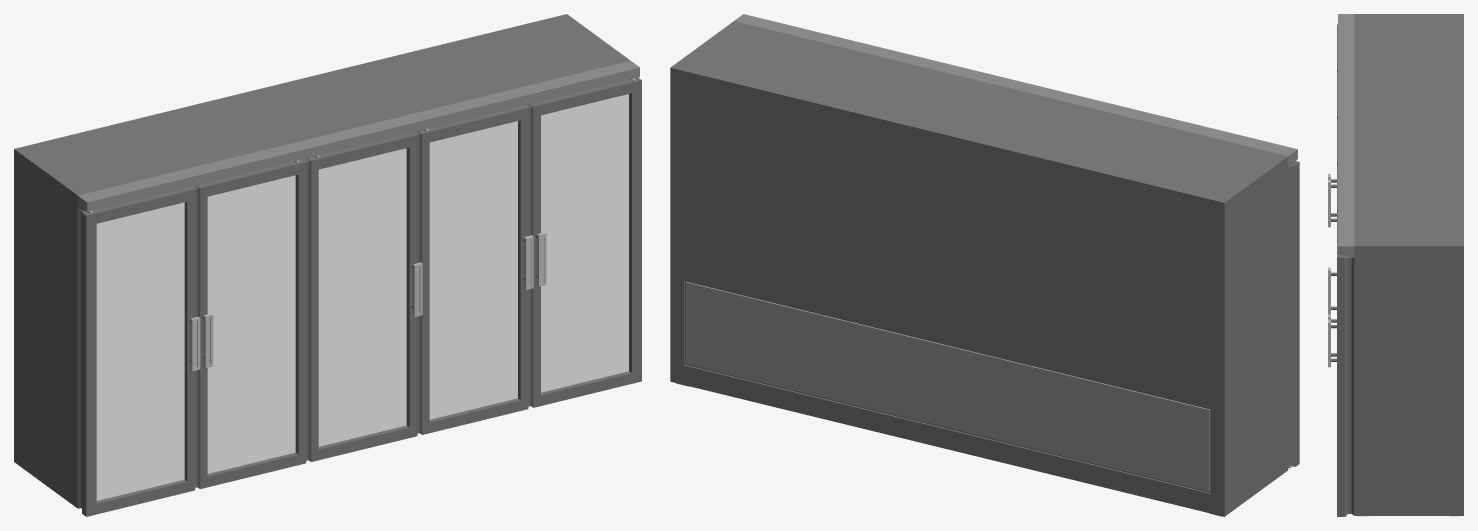
File: Large Multi Freezer Light.fbx
3 renders of one model, left to right at view 1: azimuth 30°, elevation 25°; view 2: azimuth 150°, elevation 25°; view 3: azimuth 270°, elevation 25°, orthographic. The views are drawn at different scales.
Parts seen in each view (by area): view 1: Large Multi Fridge/Freezer Light; view 2: Large Multi Fridge/Freezer Light; view 3: Large Multi Fridge/Freezer Light.
Part boxes in pixels (left/top/right/bottom): Large Multi Fridge/Freezer Light: left=14, top=14, right=641, bottom=516; Large Multi Fridge/Freezer Light: left=670, top=14, right=1299, bottom=516; Large Multi Fridge/Freezer Light: left=1328, top=14, right=1463, bottom=516.
Bounding box in the file's own units: 364 × 198 × 89.67.
Materials: 3 (2 with a texture image).
